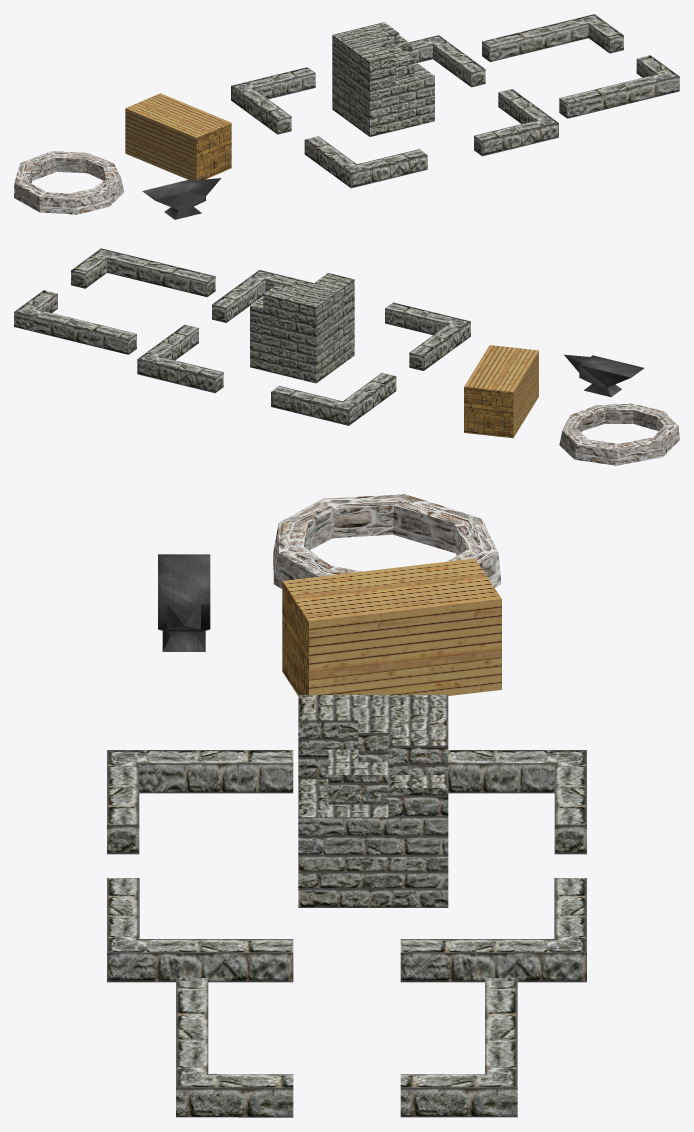
The model's file is armory_unbuilt.DAE.
The picture shows the model from 3 angles, top to bottom: view 1: azimuth 30°, elevation 25°; view 2: azimuth 150°, elevation 25°; view 3: azimuth 270°, elevation 25°; orthographic projection. The views are drawn at different scales.
Visible parts, largest first — view 1: Box003; view 2: Box003; view 3: Box003.
Part boxes in pixels (<box>): Box003: <box>14,14,679,219</box>; Box003: <box>14,248,679,465</box>; Box003: <box>107,494,586,1117</box>.
Bounding box in the file's own units: 70.27 × 24 × 8.48.
